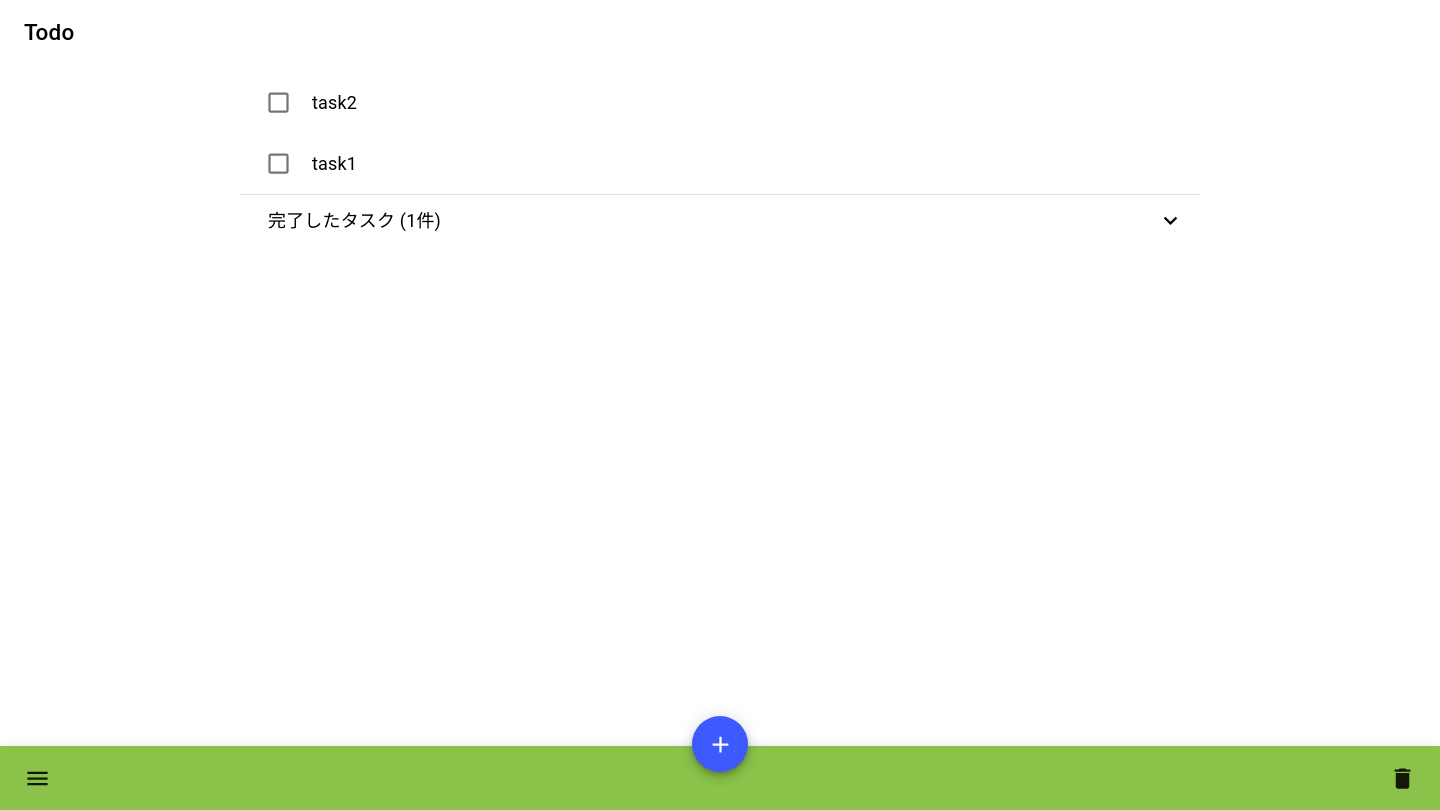
Test: トップページの描画
Expected: the heading "Todo" is shown, [24, 14, 74, 50]
Expected: the text "task1" is shown, [312, 153, 357, 174]
What coordinates should you click on to do the following:
click the button "完了したタスク (1件)"
I would click on:
 (337, 220)
Its box is [268, 207, 1184, 234].
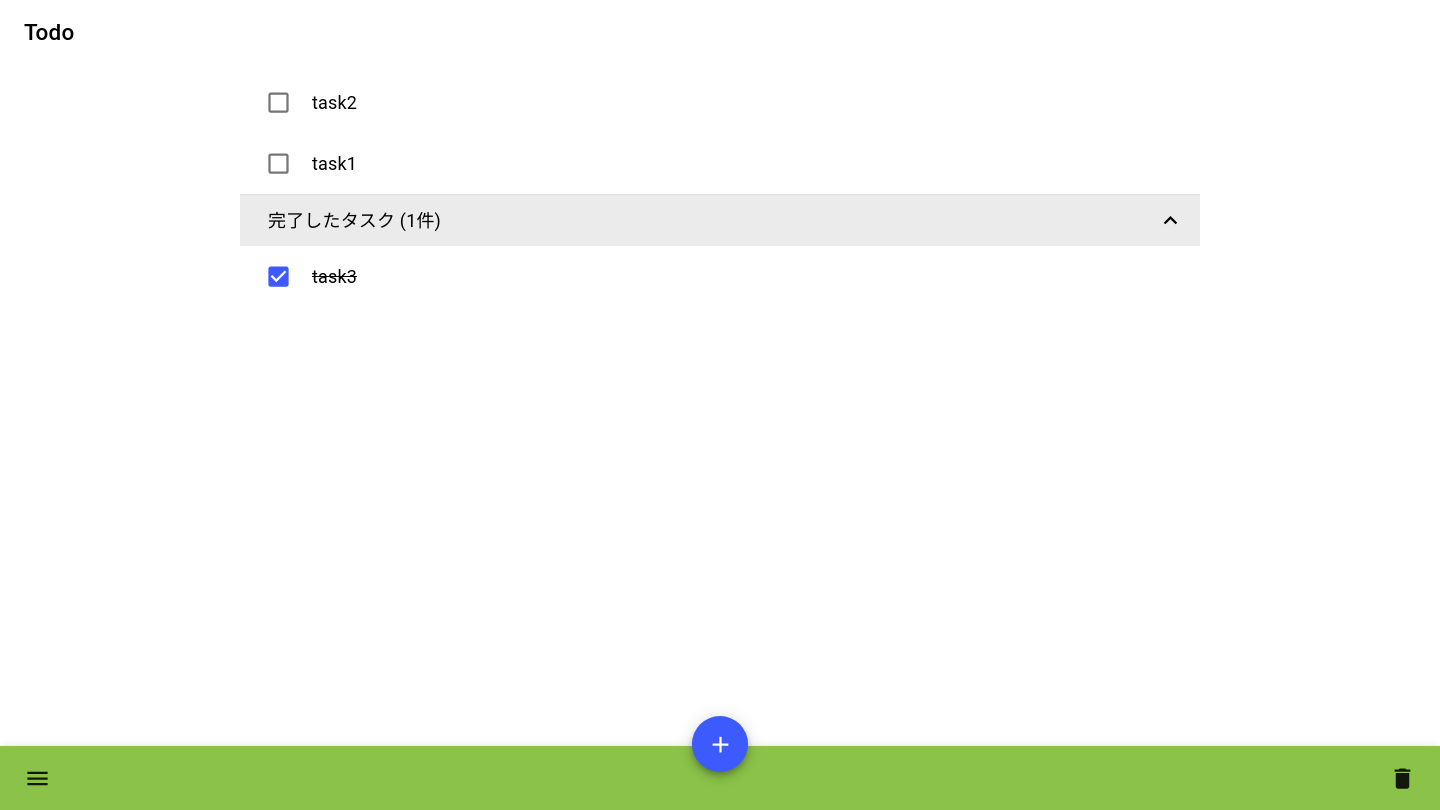
Expected: the text "task2" is shown, [312, 92, 357, 113]
Expected: the 3rd checkbox is shown, [265, 263, 292, 290]
What coordinates should you click on to do the following:
click the button named "menu"
I would click on:
 (38, 778)
Its box is [12, 752, 63, 804].
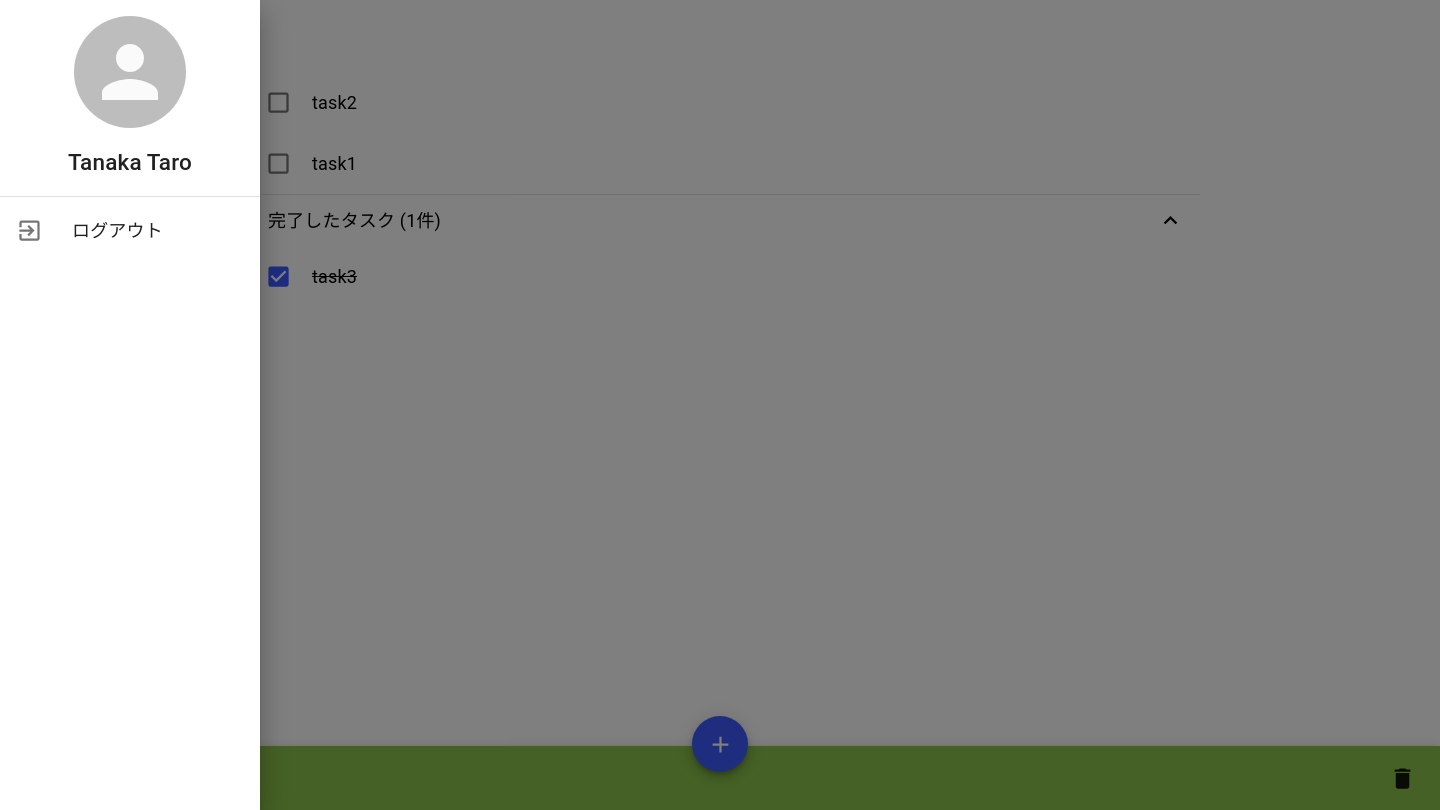
Expected: the element named "avatar" is shown, [74, 16, 186, 128]
Expected: the heading "Tanaka Taro" is shown, [68, 149, 192, 175]
Expected: the text "ログアウト" is shown, [72, 220, 163, 241]
What coordinates should you click on to do the following:
click the element named "backdrop"
I would click on:
 (720, 405)
Its box is [0, 0, 1439, 809].
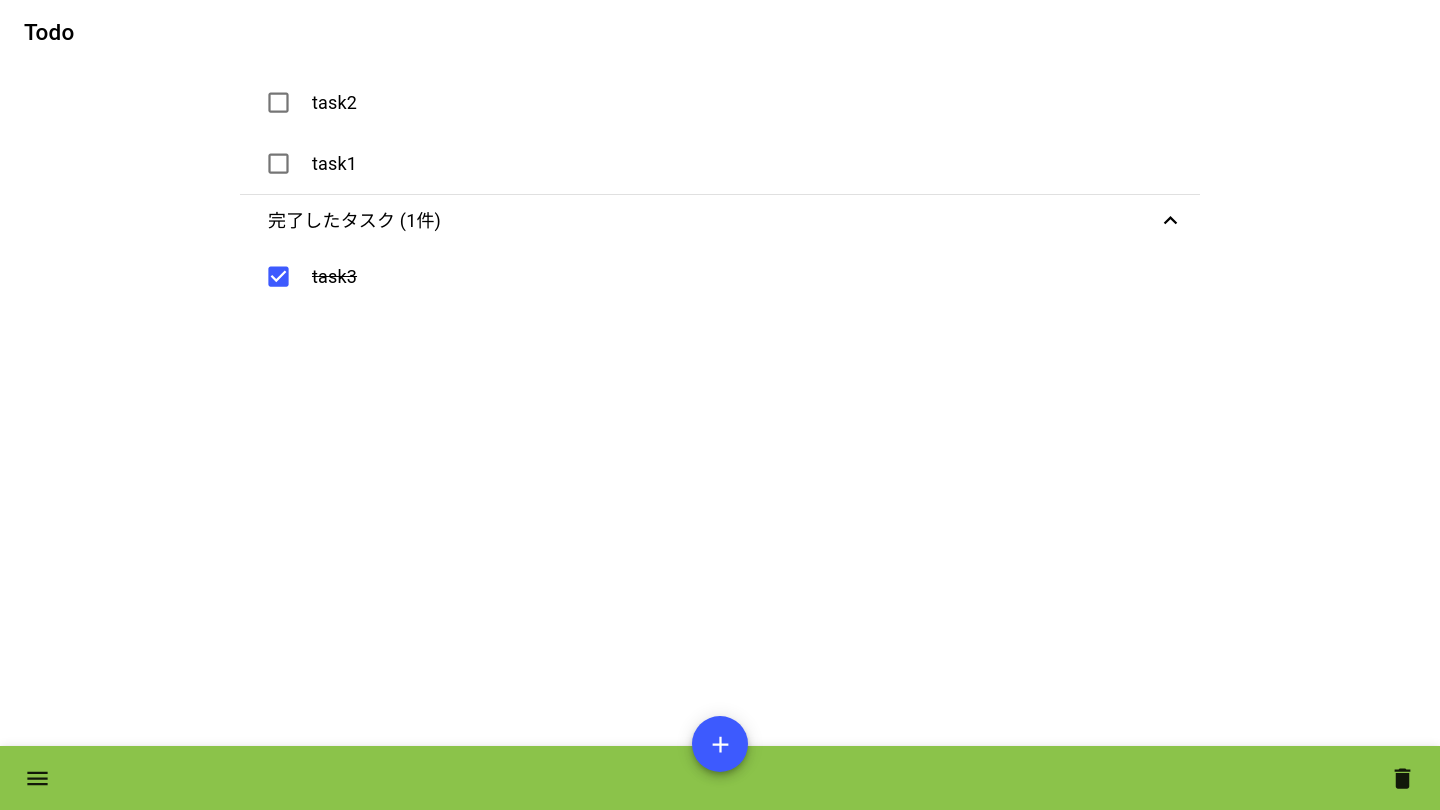
Expected: the field labelled "avatar" is gone
